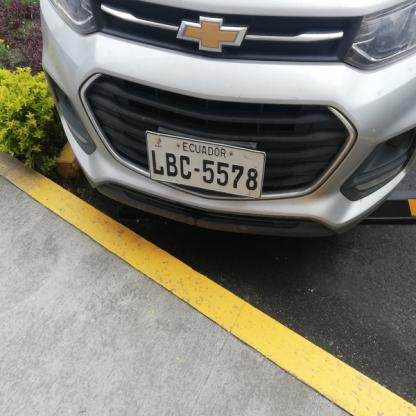Placa: (145, 133, 268, 207)
